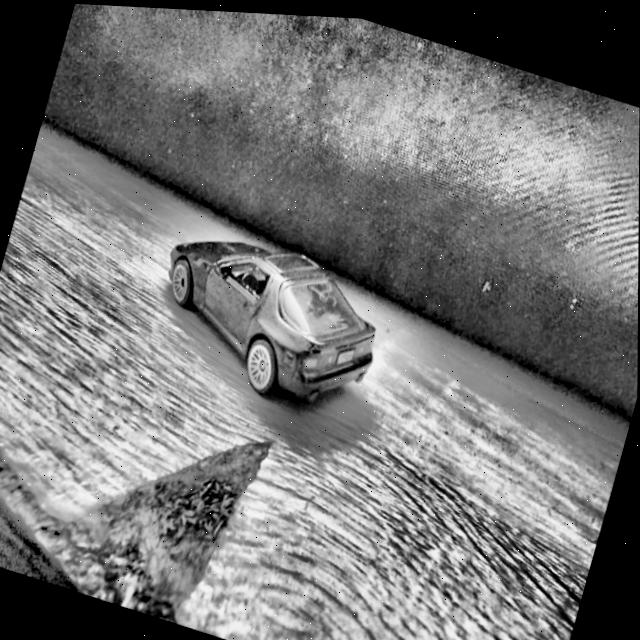car: (142, 210, 395, 423)
